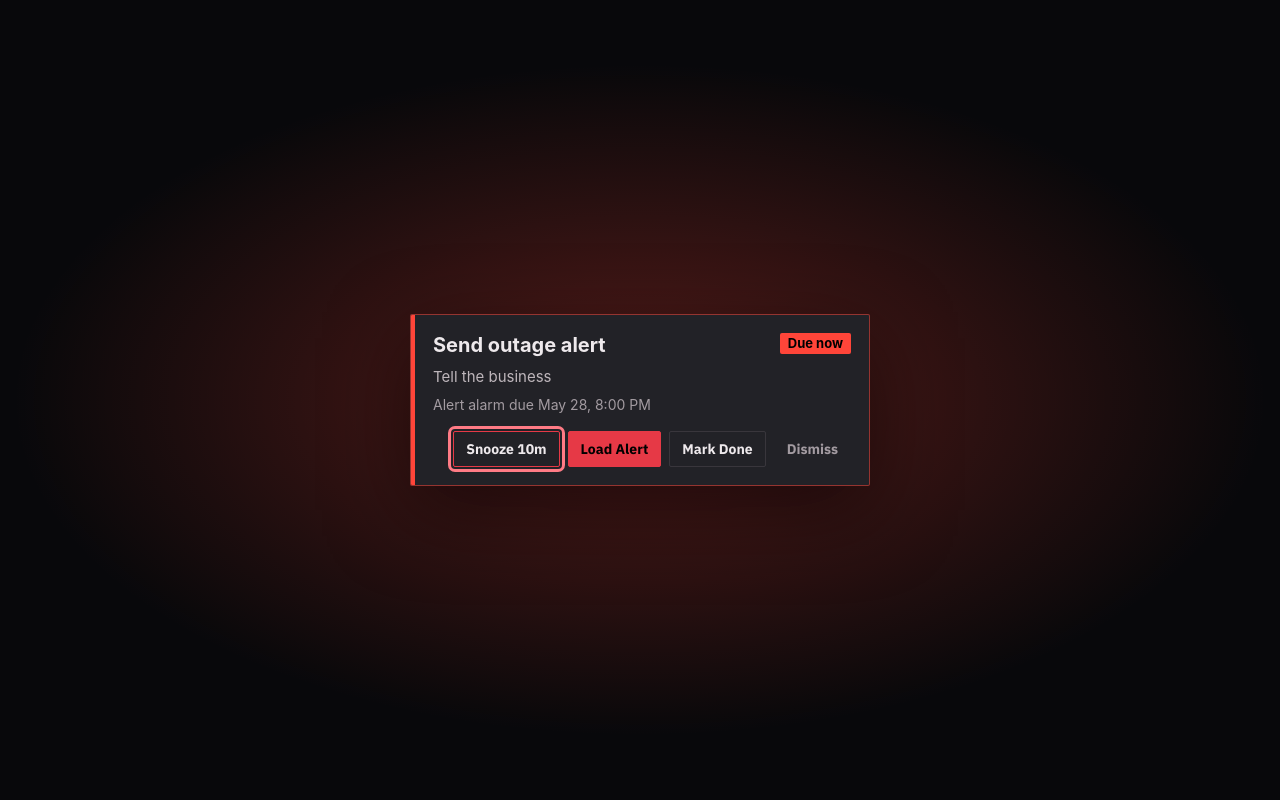
Test case: AlertReminderManager › selects another due reminder immediately after failure
Click the button "Dismiss" at (812, 449), box [774,431,851,467]
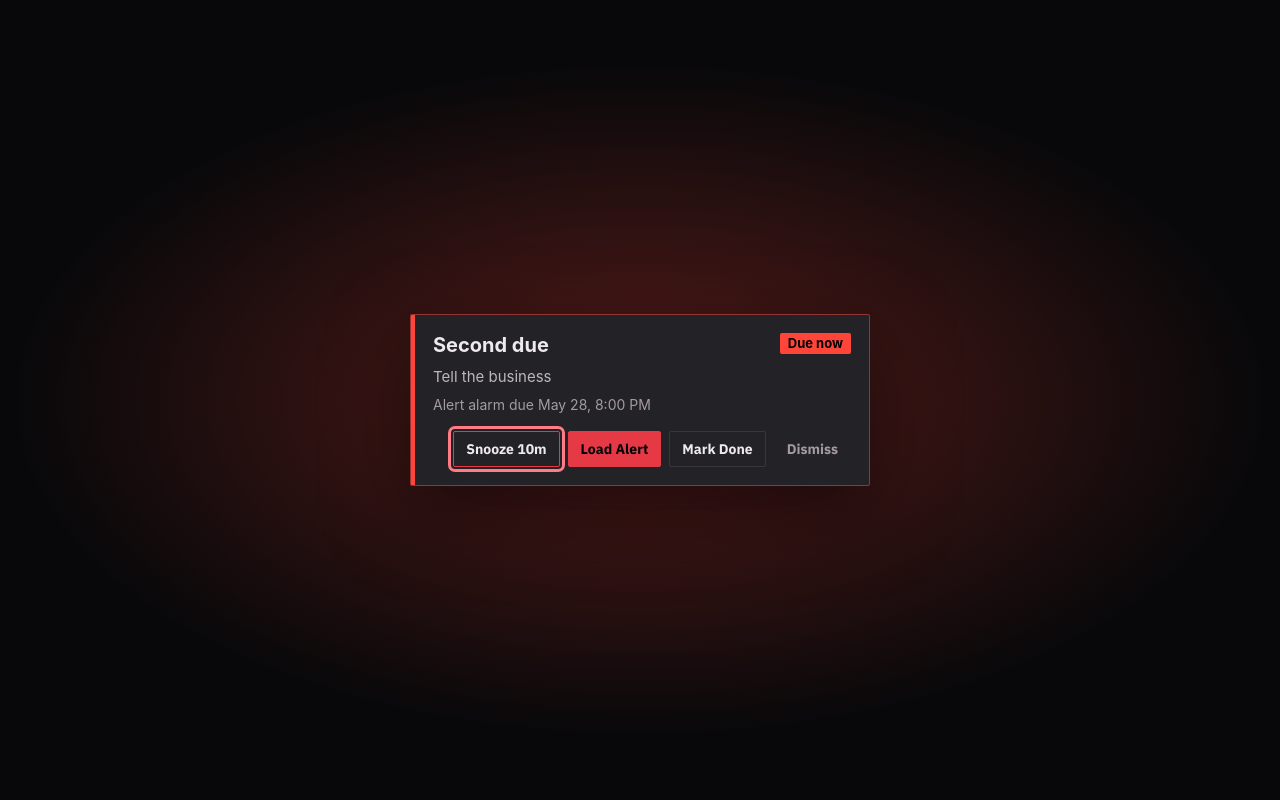
Result: the heading "Second due" is shown at [433,333,549,358]
